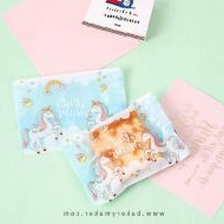snack: (53, 86, 197, 210), (8, 61, 136, 162)
